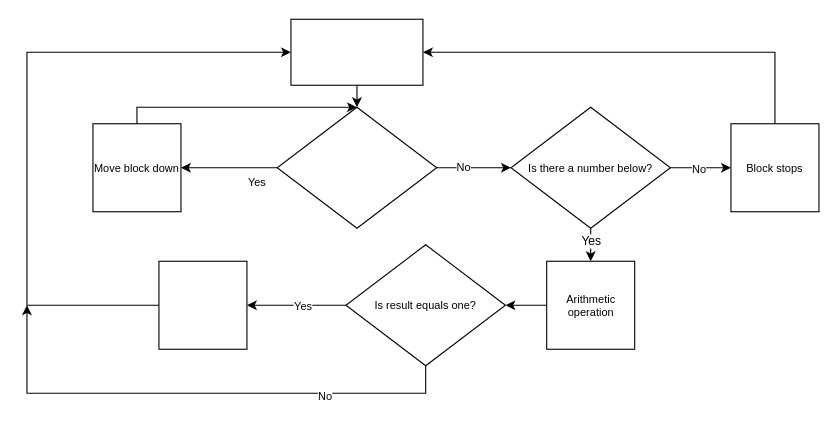
Image size: 838x421. Some labels were removed from this diagram. The centre of each missing label's shape, as x and y in pixels:
"Block appears" belongs at pixel 356 51.
"Block disappears" belongs at pixel 202 304.
"Is there a block below?" belongs at pixel 356 167.
